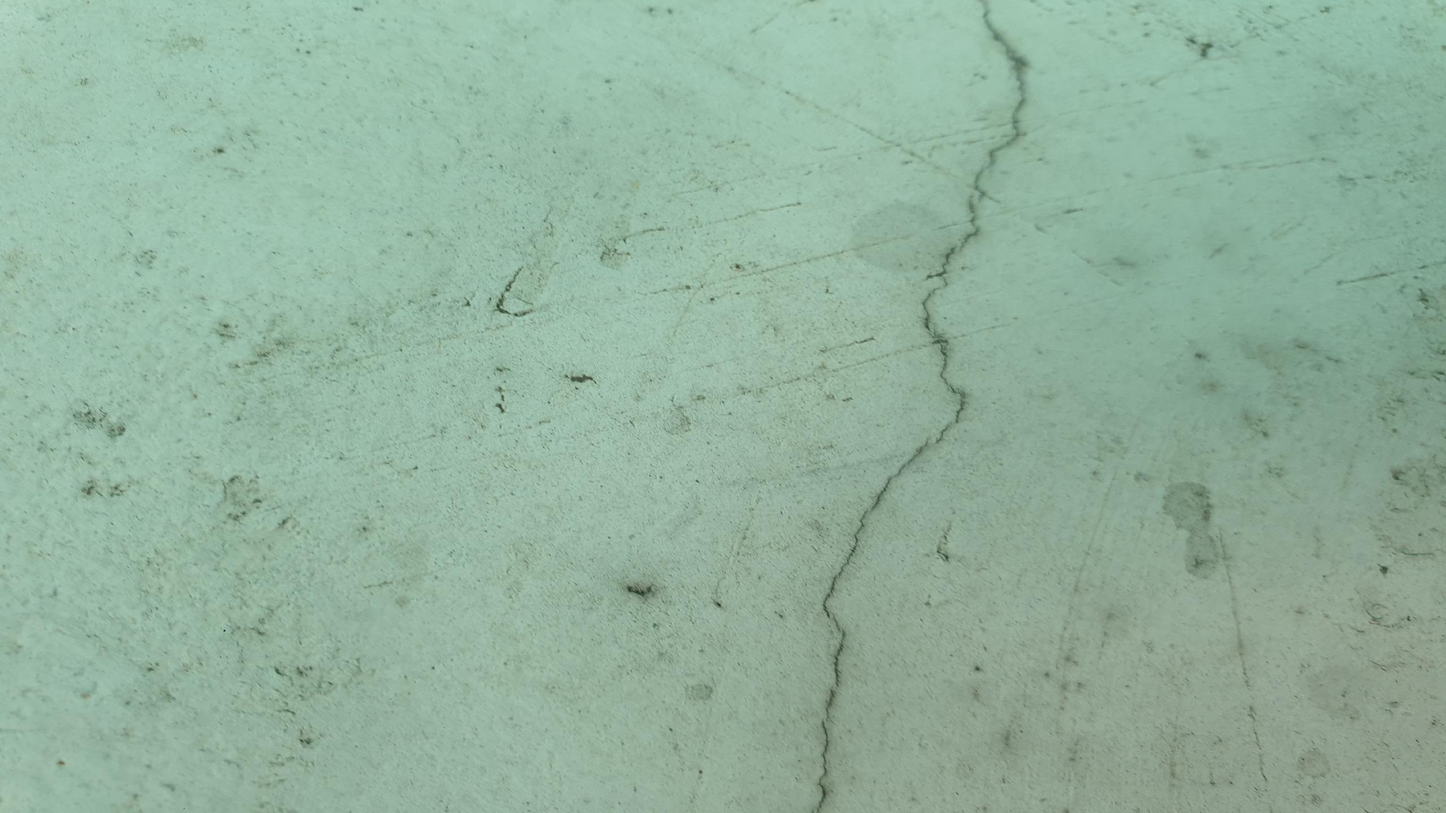crack: (813, 1, 1033, 811)
